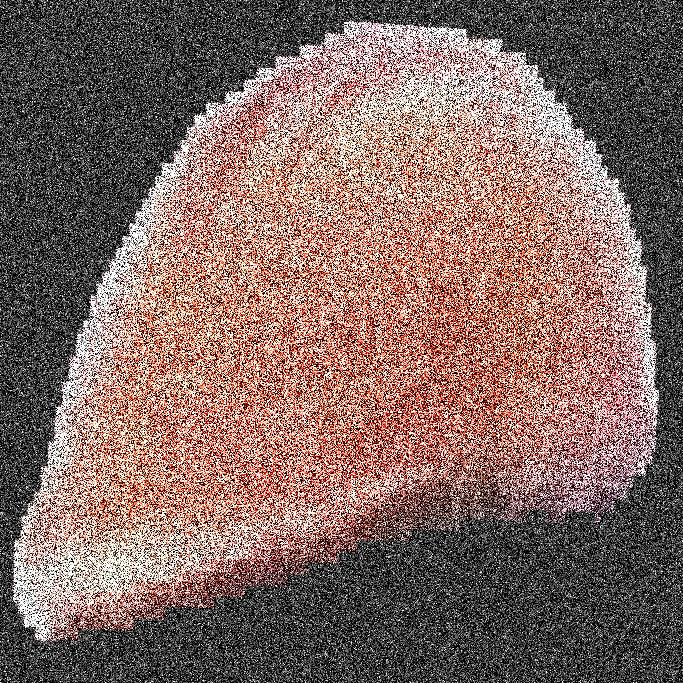Capacete: (174, 0, 524, 682)
